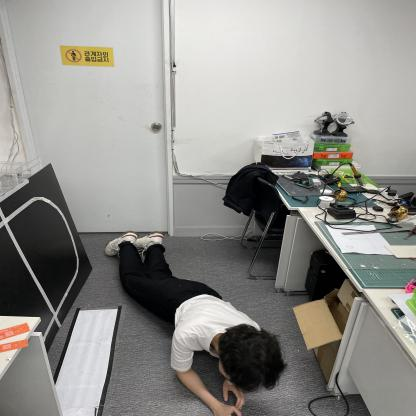fall: (105, 232, 284, 416)
